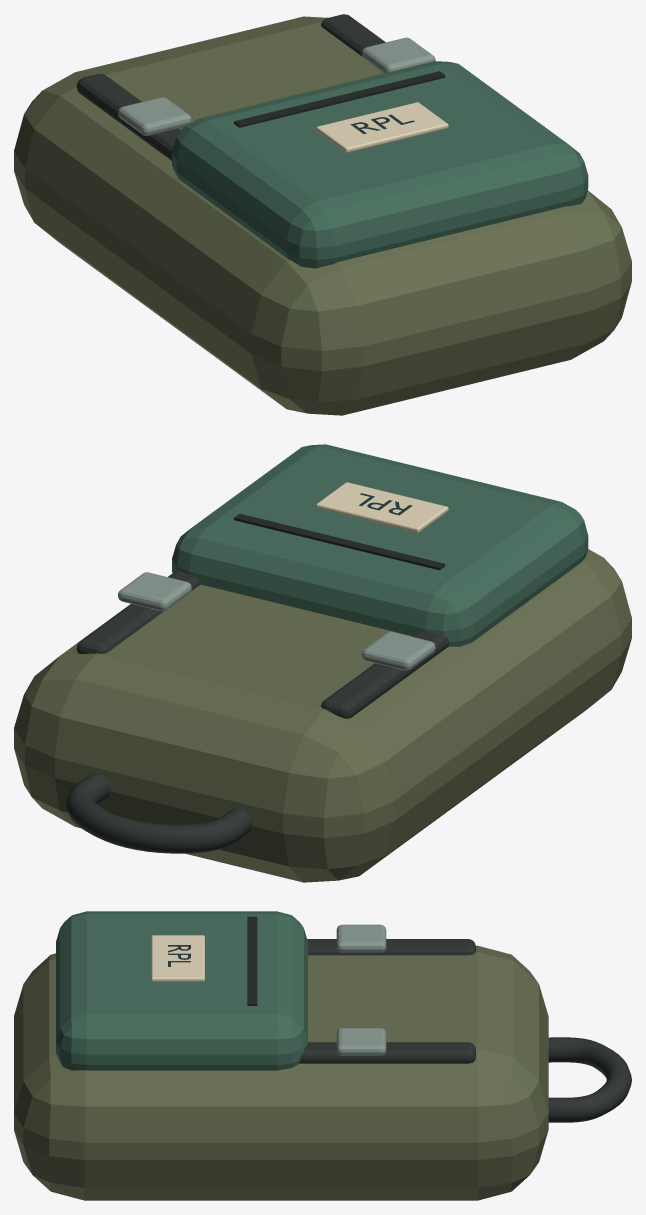
Rendered from backpack.glb.
The picture shows the model from 3 angles, top to bottom: view 1: azimuth 30°, elevation 25°; view 2: azimuth 150°, elevation 25°; view 3: azimuth 270°, elevation 25°; orthographic projection. The views are drawn at different scales.
Visible parts, largest first — view 1: backpack; view 2: backpack; view 3: backpack.
Boxes of the visible parts, <box> form: backpack: <box>14,14,631,415</box>; backpack: <box>14,444,631,882</box>; backpack: <box>14,911,631,1200</box>.
Size of the model in its own units: 0.2517 by 0.1427 by 0.42.
